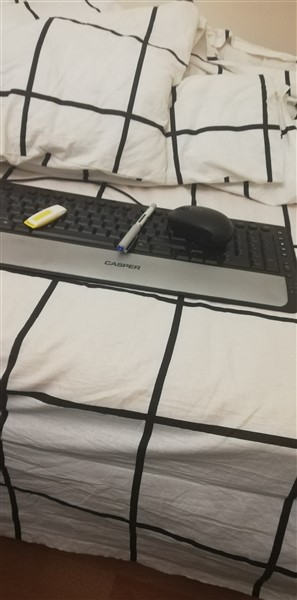flash disk: (25, 201, 72, 236)
klavye: (2, 177, 297, 317)
mouse: (169, 200, 234, 252)
pilot kalem: (113, 202, 160, 257)
